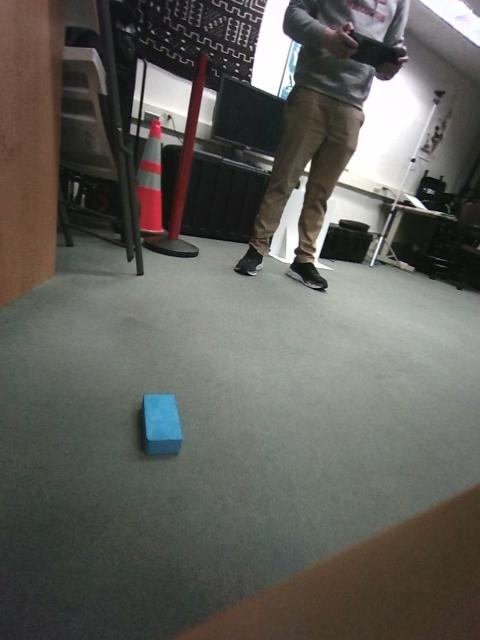block: (48, 319, 115, 370)
